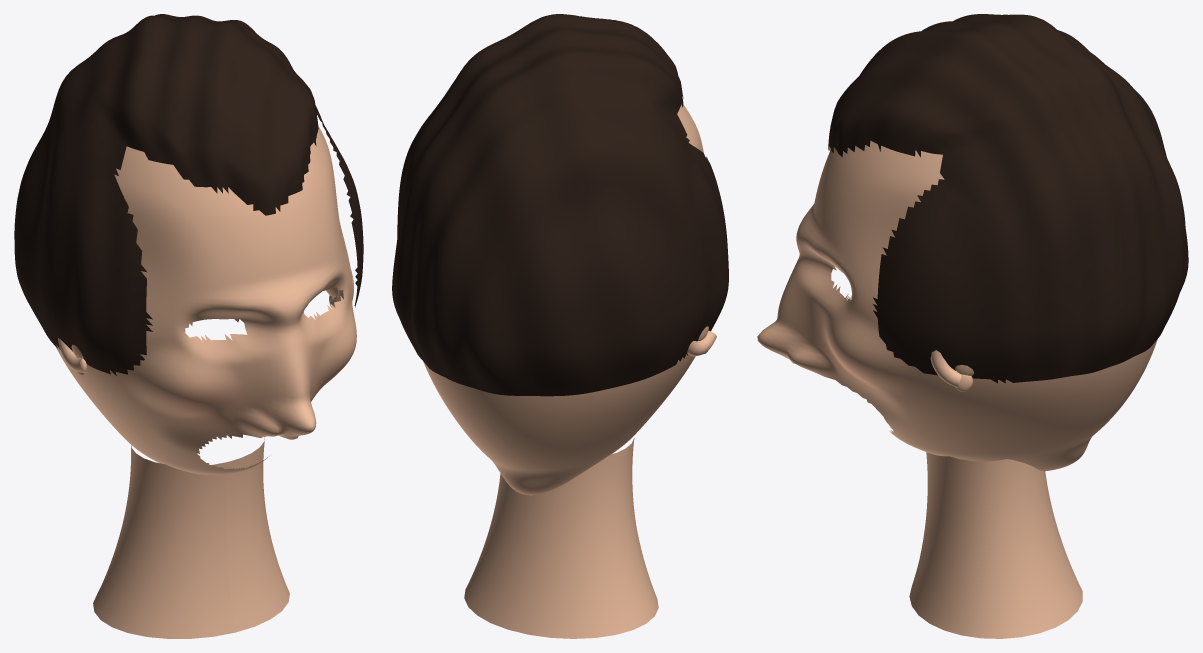
Rendered from head-male.glb.
3 renders of one model, left to right at view 1: azimuth 30°, elevation 25°; view 2: azimuth 150°, elevation 25°; view 3: azimuth 270°, elevation 25°, orthographic.
Parts seen in each view (by area): view 1: hair-cap, head, neck-skin, ears; view 2: hair-cap, neck-skin, head, ears; view 3: hair-cap, head, neck-skin, ears.
Boxes of the visible parts, left/top/right/bottom form: hair-cap: left=14, top=14, right=363, bottom=375; head: left=56, top=126, right=356, bottom=474; neck-skin: left=93, top=438, right=289, bottom=638; ears: left=58, top=270, right=353, bottom=375; hair-cap: left=392, top=14, right=728, bottom=396; neck-skin: left=464, top=438, right=658, bottom=638; head: left=423, top=104, right=703, bottom=495; ears: left=687, top=326, right=716, bottom=356; hair-cap: left=828, top=14, right=1188, bottom=383; head: left=757, top=140, right=1157, bottom=471; neck-skin: left=909, top=452, right=1082, bottom=638; ears: left=930, top=350, right=974, bottom=391.
Size of the model in its own units: 13.74 by 26.54 by 18.12.
